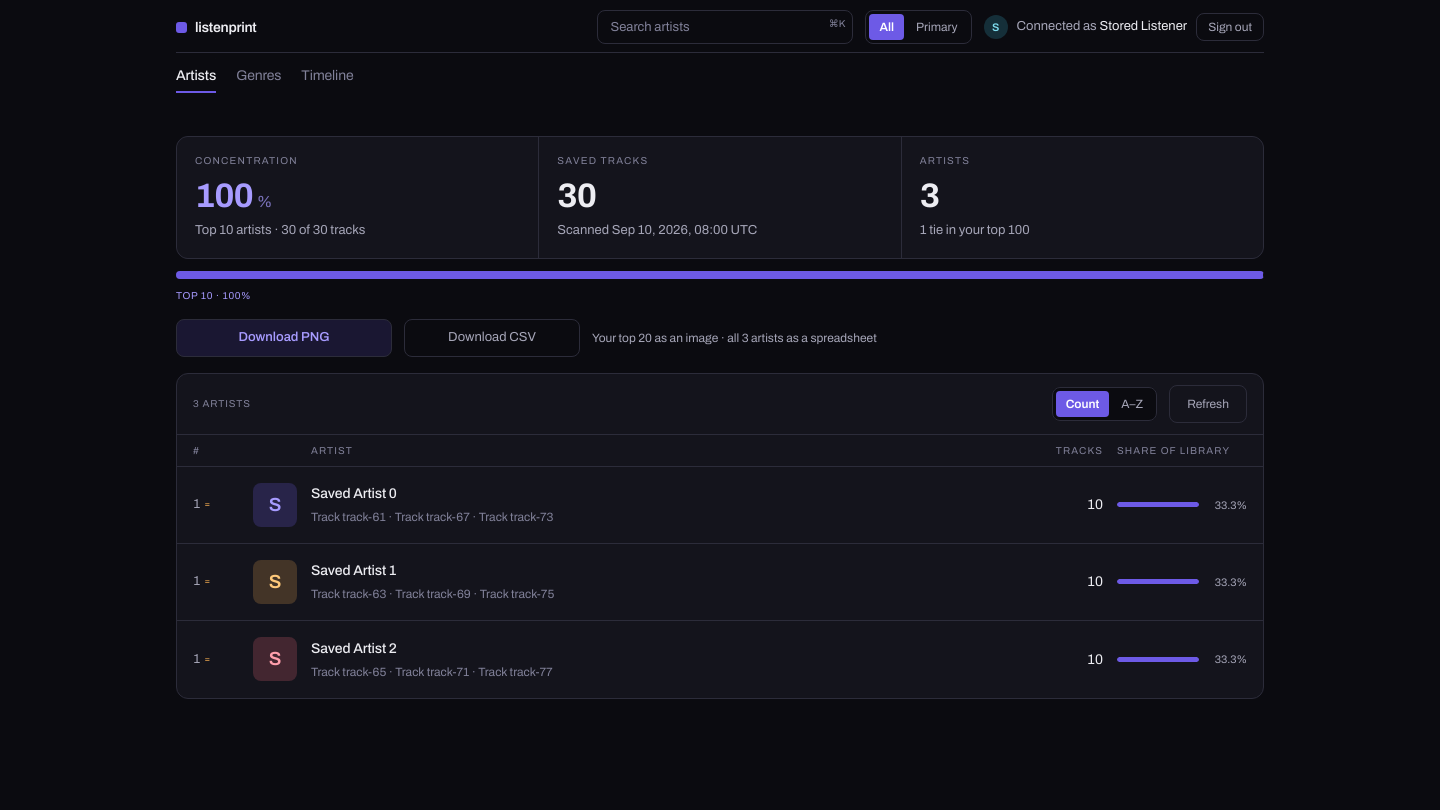
it: list ↔ artist view transitions on the live library › renders the live artist header in the state the first open captures
Click the link "Saved Artist 0".
click(354, 494)  # box [311,486,397,501]
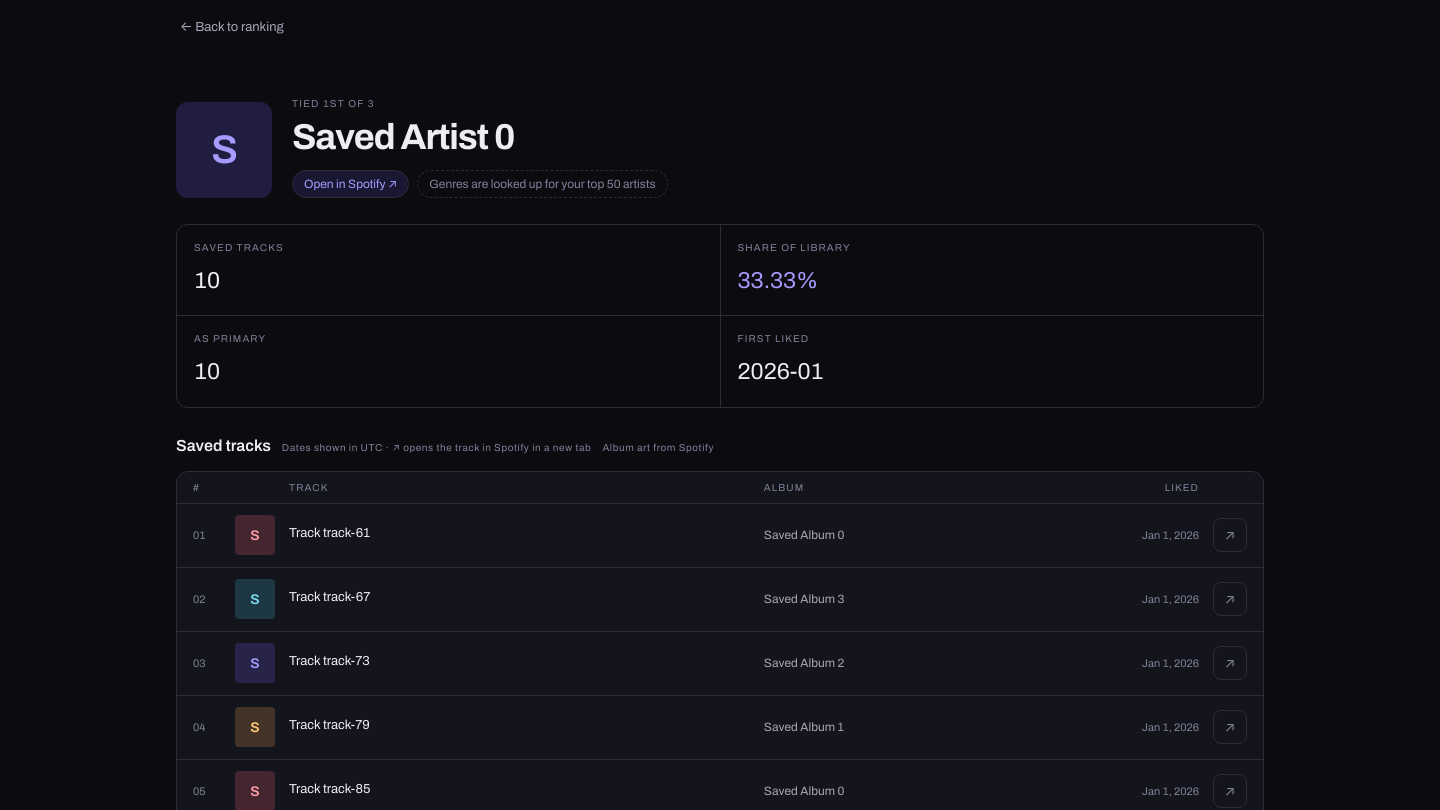
Now the heading "Saved Artist 0" is shown, box [292,117,514,157]
